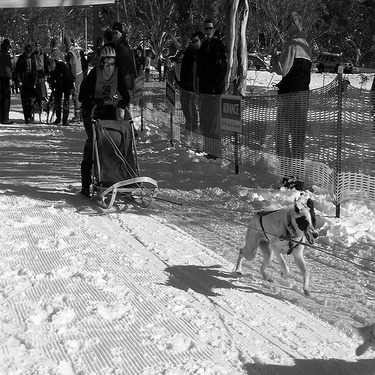dog: (215, 179, 322, 301)
